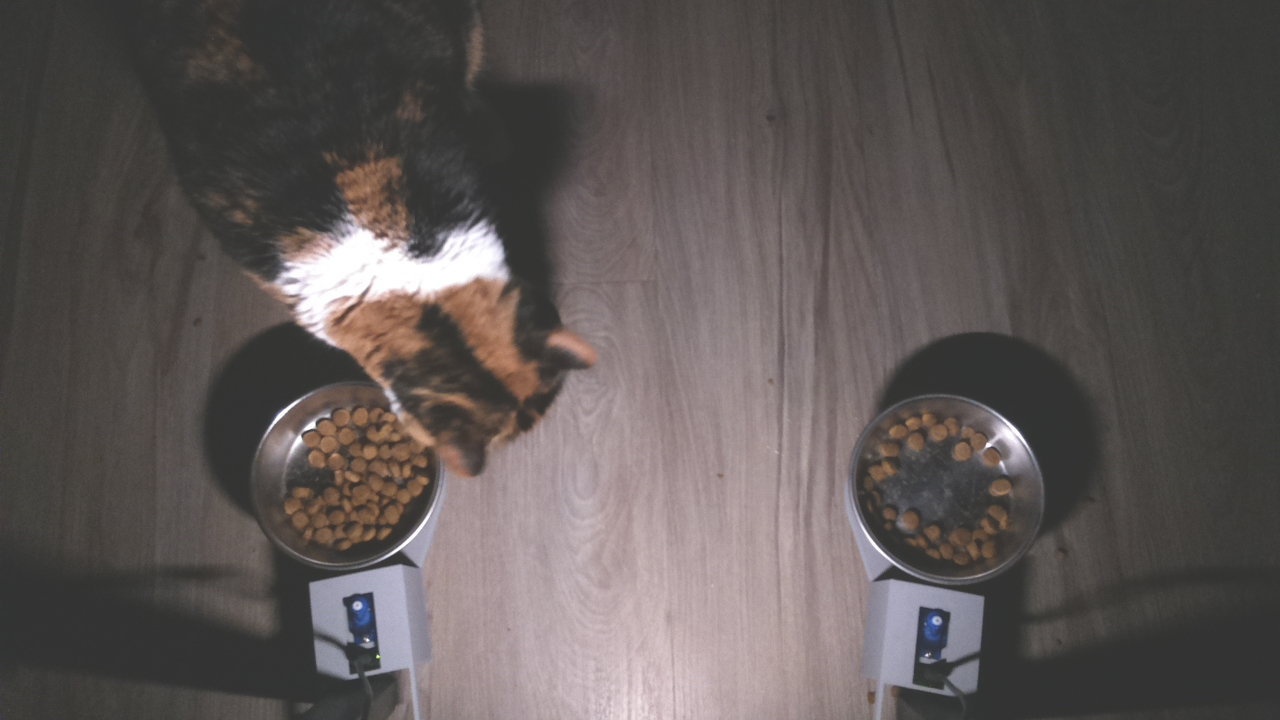bella: (285, 225, 604, 489)
open_bowl: (232, 368, 465, 573), (841, 389, 1065, 591)
